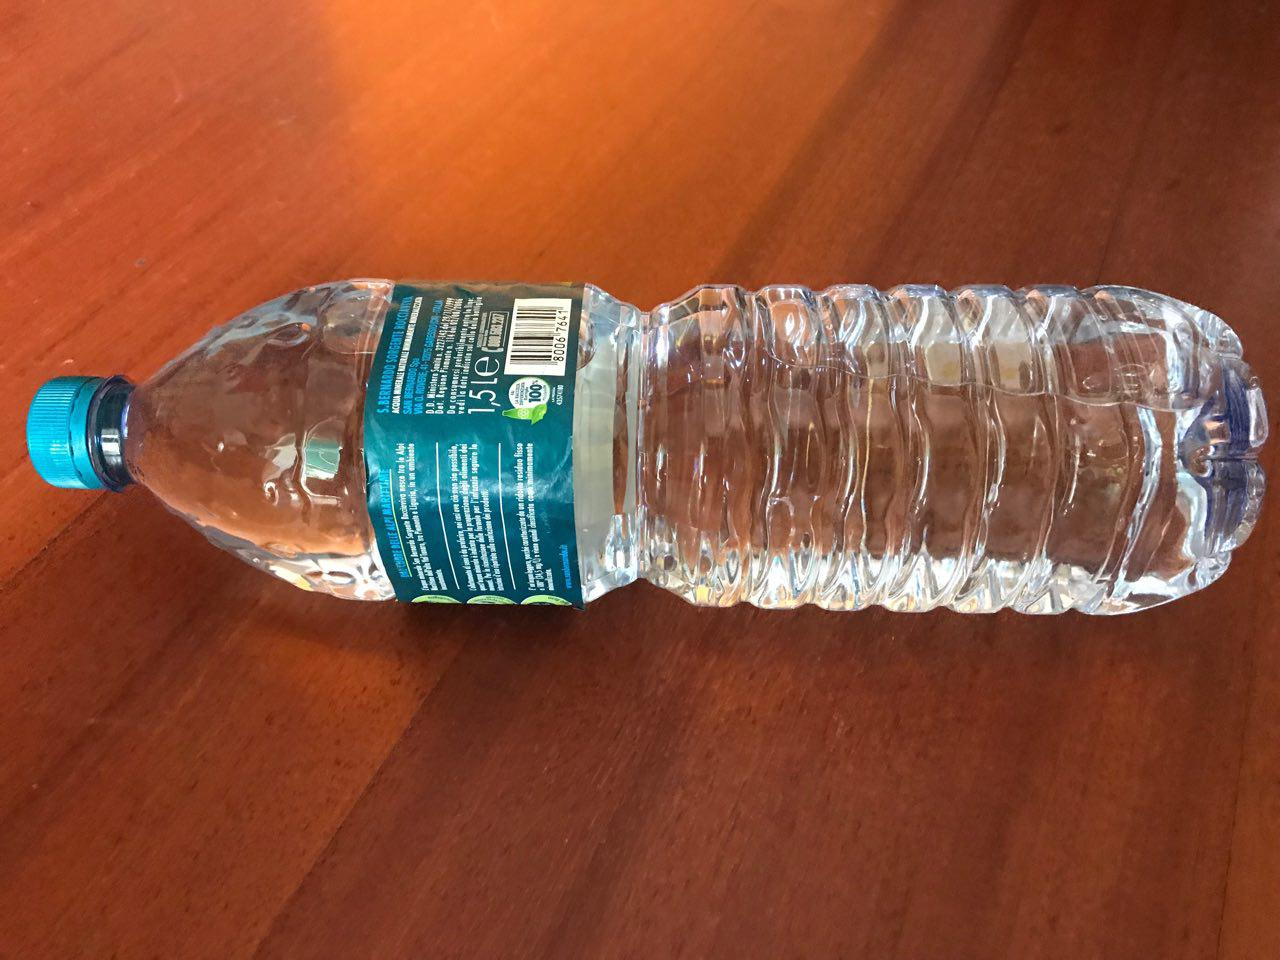san_bernardo: (24, 276, 1272, 617)
